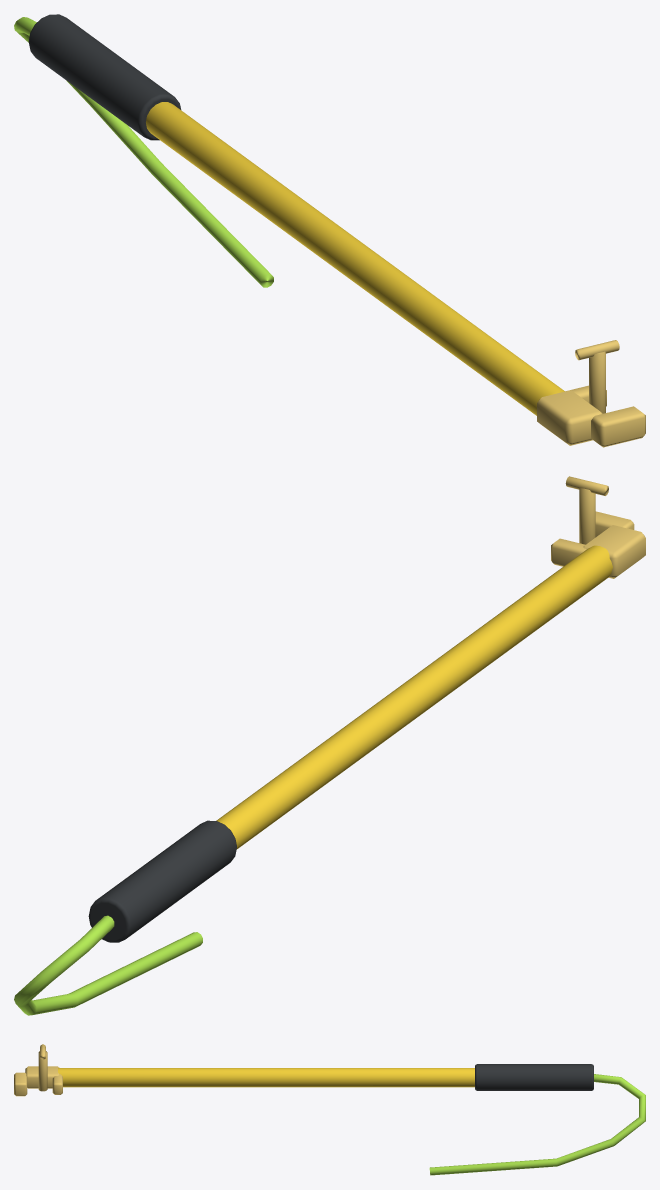
The model's file is cme-earth-lead.glb.
The picture shows the model from 3 angles, top to bottom: view 1: azimuth 30°, elevation 25°; view 2: azimuth 150°, elevation 25°; view 3: azimuth 270°, elevation 25°; orthographic projection. The views are drawn at different scales.
Visible parts, largest first — view 1: CmeEarthLeadMesh; view 2: CmeEarthLeadMesh; view 3: CmeEarthLeadMesh.
Boxes of the visible parts, <box> form: CmeEarthLeadMesh: <box>14,14,645,447</box>; CmeEarthLeadMesh: <box>14,476,645,1015</box>; CmeEarthLeadMesh: <box>14,1044,645,1175</box>.
Bounding box in the file's own units: 0.0833 × 0.1723 × 0.8488.
